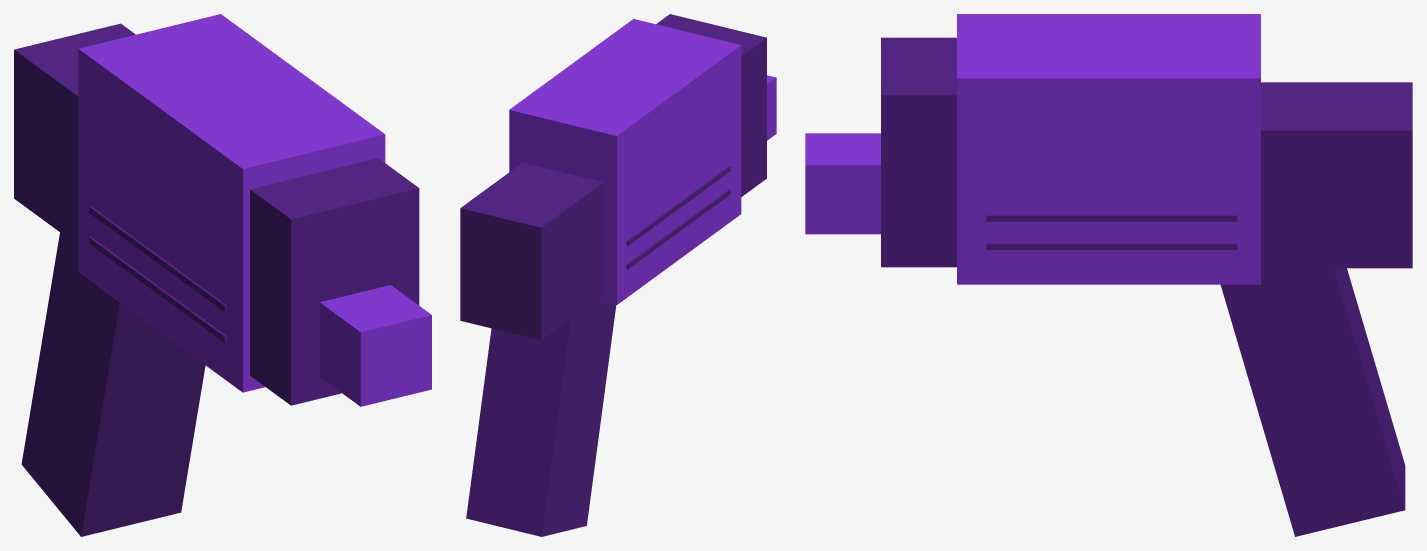
The model's file is BioBlaster.fbx.
3 renders of one model, left to right at view 1: azimuth 30°, elevation 25°; view 2: azimuth 150°, elevation 25°; view 3: azimuth 270°, elevation 25°, orthographic. The views are drawn at different scales.
Visible parts, largest first — view 1: Cube.001, Cube.004, Cube.003, Cube.002, Cube.007, Cube.006; view 2: Cube.004, Cube.001, Cube.003, Cube.006, Cube.007, Cube.002; view 3: Cube.001, Cube.004, Cube.003, Cube.002, Cube.008, Cube.009.
Boxes of the visible parts, left/top/right/bottom form: Cube.001: left=78, top=14, right=385, bottom=392; Cube.004: left=14, top=23, right=205, bottom=536; Cube.003: left=250, top=158, right=419, bottom=405; Cube.002: left=319, top=285, right=431, bottom=406; Cube.007: left=89, top=206, right=226, bottom=311; Cube.006: left=89, top=237, right=226, bottom=342; Cube.004: left=460, top=162, right=616, bottom=536; Cube.001: left=509, top=19, right=741, bottom=304; Cube.003: left=656, top=14, right=766, bottom=196; Cube.006: left=626, top=189, right=730, bottom=269; Cube.007: left=626, top=166, right=730, bottom=245; Cube.002: left=767, top=75, right=776, bottom=140; Cube.001: left=957, top=14, right=1260, bottom=284; Cube.004: left=1220, top=82, right=1412, bottom=536; Cube.003: left=881, top=37, right=956, bottom=267; Cube.002: left=805, top=133, right=880, bottom=234; Cube.008: left=986, top=243, right=1237, bottom=249; Cube.009: left=986, top=215, right=1237, bottom=221.
Size of the model in its own units: 50 by 165 by 194.
